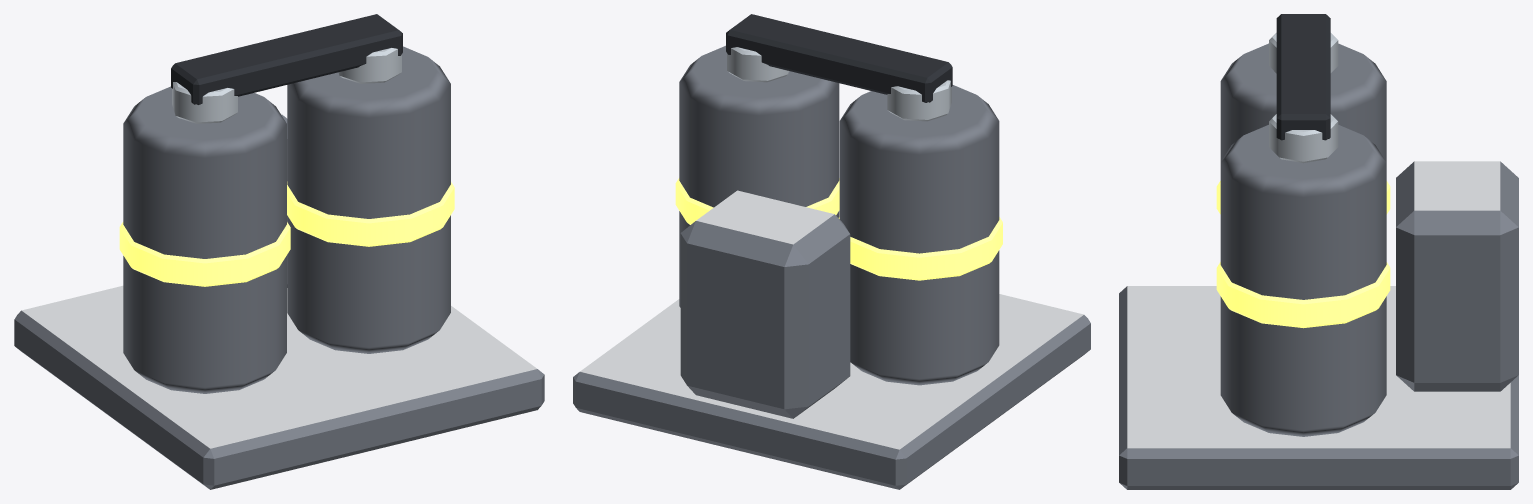
File: R4X_Battery_LOD1.fbx
3 renders of one model, left to right at view 1: azimuth 30°, elevation 25°; view 2: azimuth 150°, elevation 25°; view 3: azimuth 270°, elevation 25°, orthographic. The views are drawn at different scales.
Visible parts, largest first — view 1: R4X_Battery_LOD1; view 2: R4X_Battery_LOD1; view 3: R4X_Battery_LOD1.
Part boxes in pixels (x1,y1,x2,y2): R4X_Battery_LOD1: (14, 14, 544, 489); R4X_Battery_LOD1: (573, 14, 1090, 489); R4X_Battery_LOD1: (1119, 14, 1518, 489).
Size of the model in its own units: 0.52 by 0.495 by 0.52.
